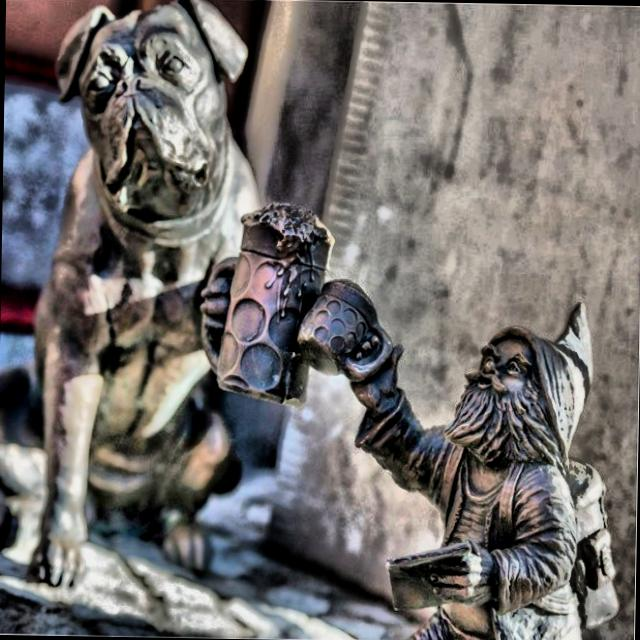Piwozlopek_ i_Piesel_Piwosz: (31, 0, 615, 640)
